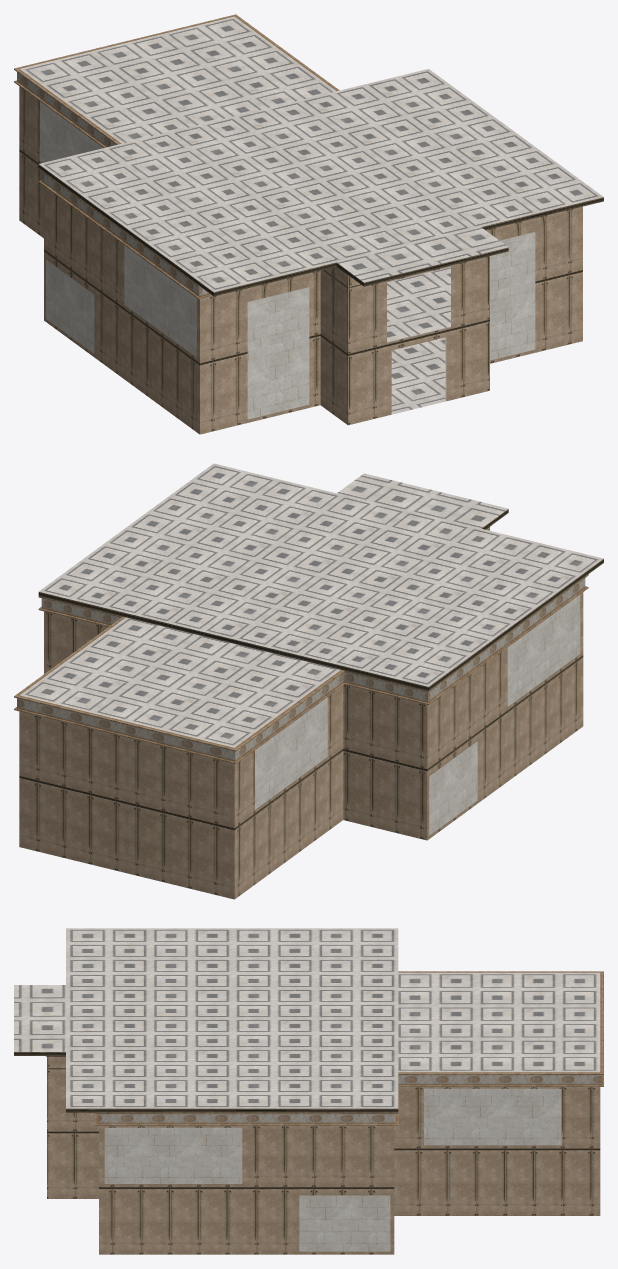
The model's file is Launch_Building_Coon_Building.glb.
The picture shows the model from 3 angles, top to bottom: view 1: azimuth 30°, elevation 25°; view 2: azimuth 150°, elevation 25°; view 3: azimuth 270°, elevation 25°; orthographic projection. The views are drawn at different scales.
Visible parts, largest first — view 1: Launch_Building_Coon_Exterior_Roof2, Launch_Building_Coon_Exterior_Wall, Launch_Building_Coon_Interior_Wall, Launch_Building_Coon_Exterior_Roof1, Launch_Building_Coon_Building, Launch_Building_Coon_Exterior_Joint1; view 2: Launch_Building_Coon_Exterior_Roof2, Launch_Building_Coon_Exterior_Wall, Launch_Building_Coon_Exterior_Roof1, Launch_Building_Coon_Interior_Wall, Launch_Building_Coon_Exterior_Joint1; view 3: Launch_Building_Coon_Exterior_Roof2, Launch_Building_Coon_Exterior_Wall, Launch_Building_Coon_Interior_Wall, Launch_Building_Coon_Exterior_Roof1, Launch_Building_Coon_Exterior_Joint1.
Part boxes in pixels (x1,y1,x2,y2): Launch_Building_Coon_Exterior_Roof2: [38, 69, 603, 296]; Launch_Building_Coon_Exterior_Wall: [19, 86, 582, 434]; Launch_Building_Coon_Interior_Wall: [39, 101, 535, 419]; Launch_Building_Coon_Exterior_Roof1: [20, 16, 336, 143]; Launch_Building_Coon_Building: [387, 266, 450, 414]; Launch_Building_Coon_Exterior_Joint1: [14, 14, 339, 299]; Launch_Building_Coon_Exterior_Roof2: [38, 463, 603, 690]; Launch_Building_Coon_Exterior_Wall: [19, 527, 583, 899]; Launch_Building_Coon_Exterior_Roof1: [19, 617, 340, 747]; Launch_Building_Coon_Interior_Wall: [255, 594, 580, 835]; Launch_Building_Coon_Exterior_Joint1: [14, 574, 588, 763]; Launch_Building_Coon_Exterior_Roof2: [14, 928, 398, 1112]; Launch_Building_Coon_Exterior_Wall: [47, 1056, 600, 1254]; Launch_Building_Coon_Interior_Wall: [104, 1088, 561, 1251]; Launch_Building_Coon_Exterior_Roof1: [398, 972, 600, 1072]; Launch_Building_Coon_Exterior_Joint1: [95, 971, 603, 1125].
Bounding box in the file's own units: 28.62 × 10.93 × 39.56.
5 materials, 5 textured.
